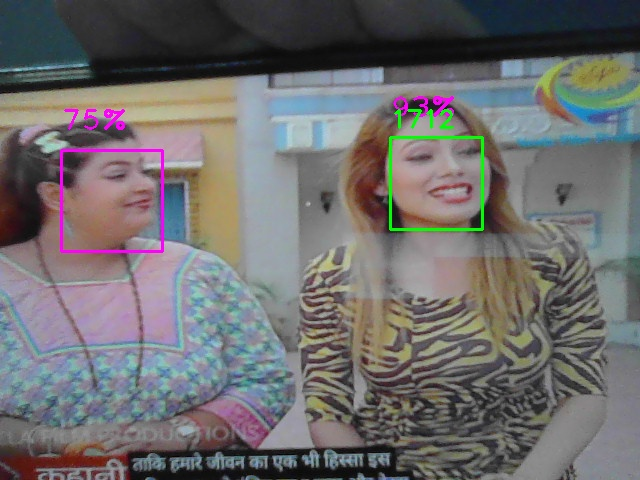fake: (390, 137, 483, 230)
